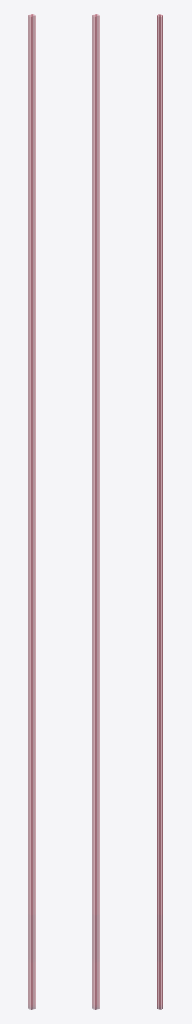
The model's file is myocytesOnlyColor.glb.
The picture shows the model from 3 angles, left to right: view 1: azimuth 30°, elevation 25°; view 2: azimuth 210°, elevation 25°; view 3: azimuth 330°, elevation 25°; orthographic projection.
Size of the model in its own units: 117 by 21000 by 92.
